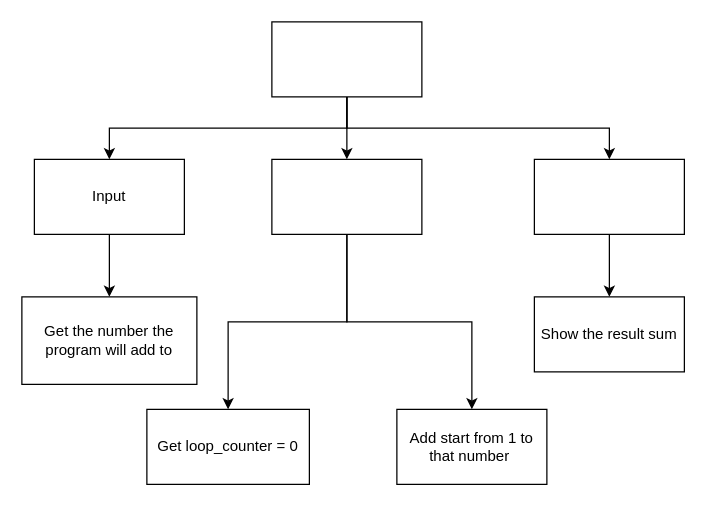
This 706x506 diagram has some shape labels left out. Here are the shapes that lost their labels. From the top down, the centre of each, then its label:
the point at 346,59: Adding
the point at 346,196: Process
the point at 608,196: Output
